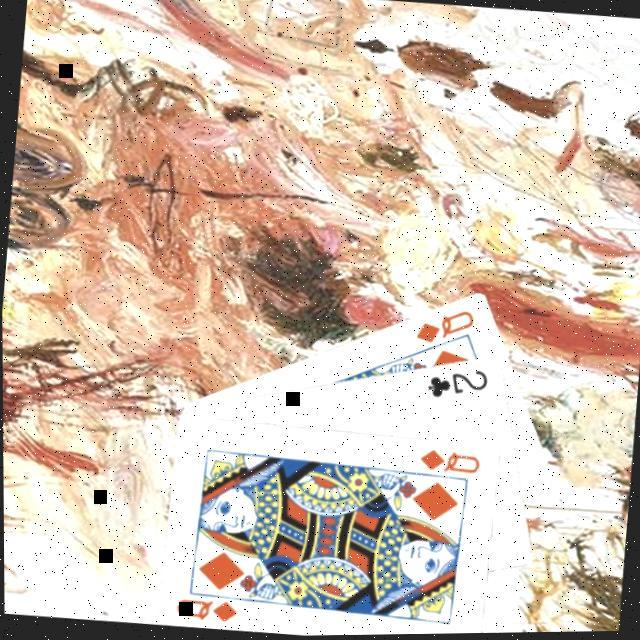2C: (422, 362, 491, 407)
QD: (410, 304, 477, 351), (414, 445, 482, 480), (170, 594, 240, 628)
